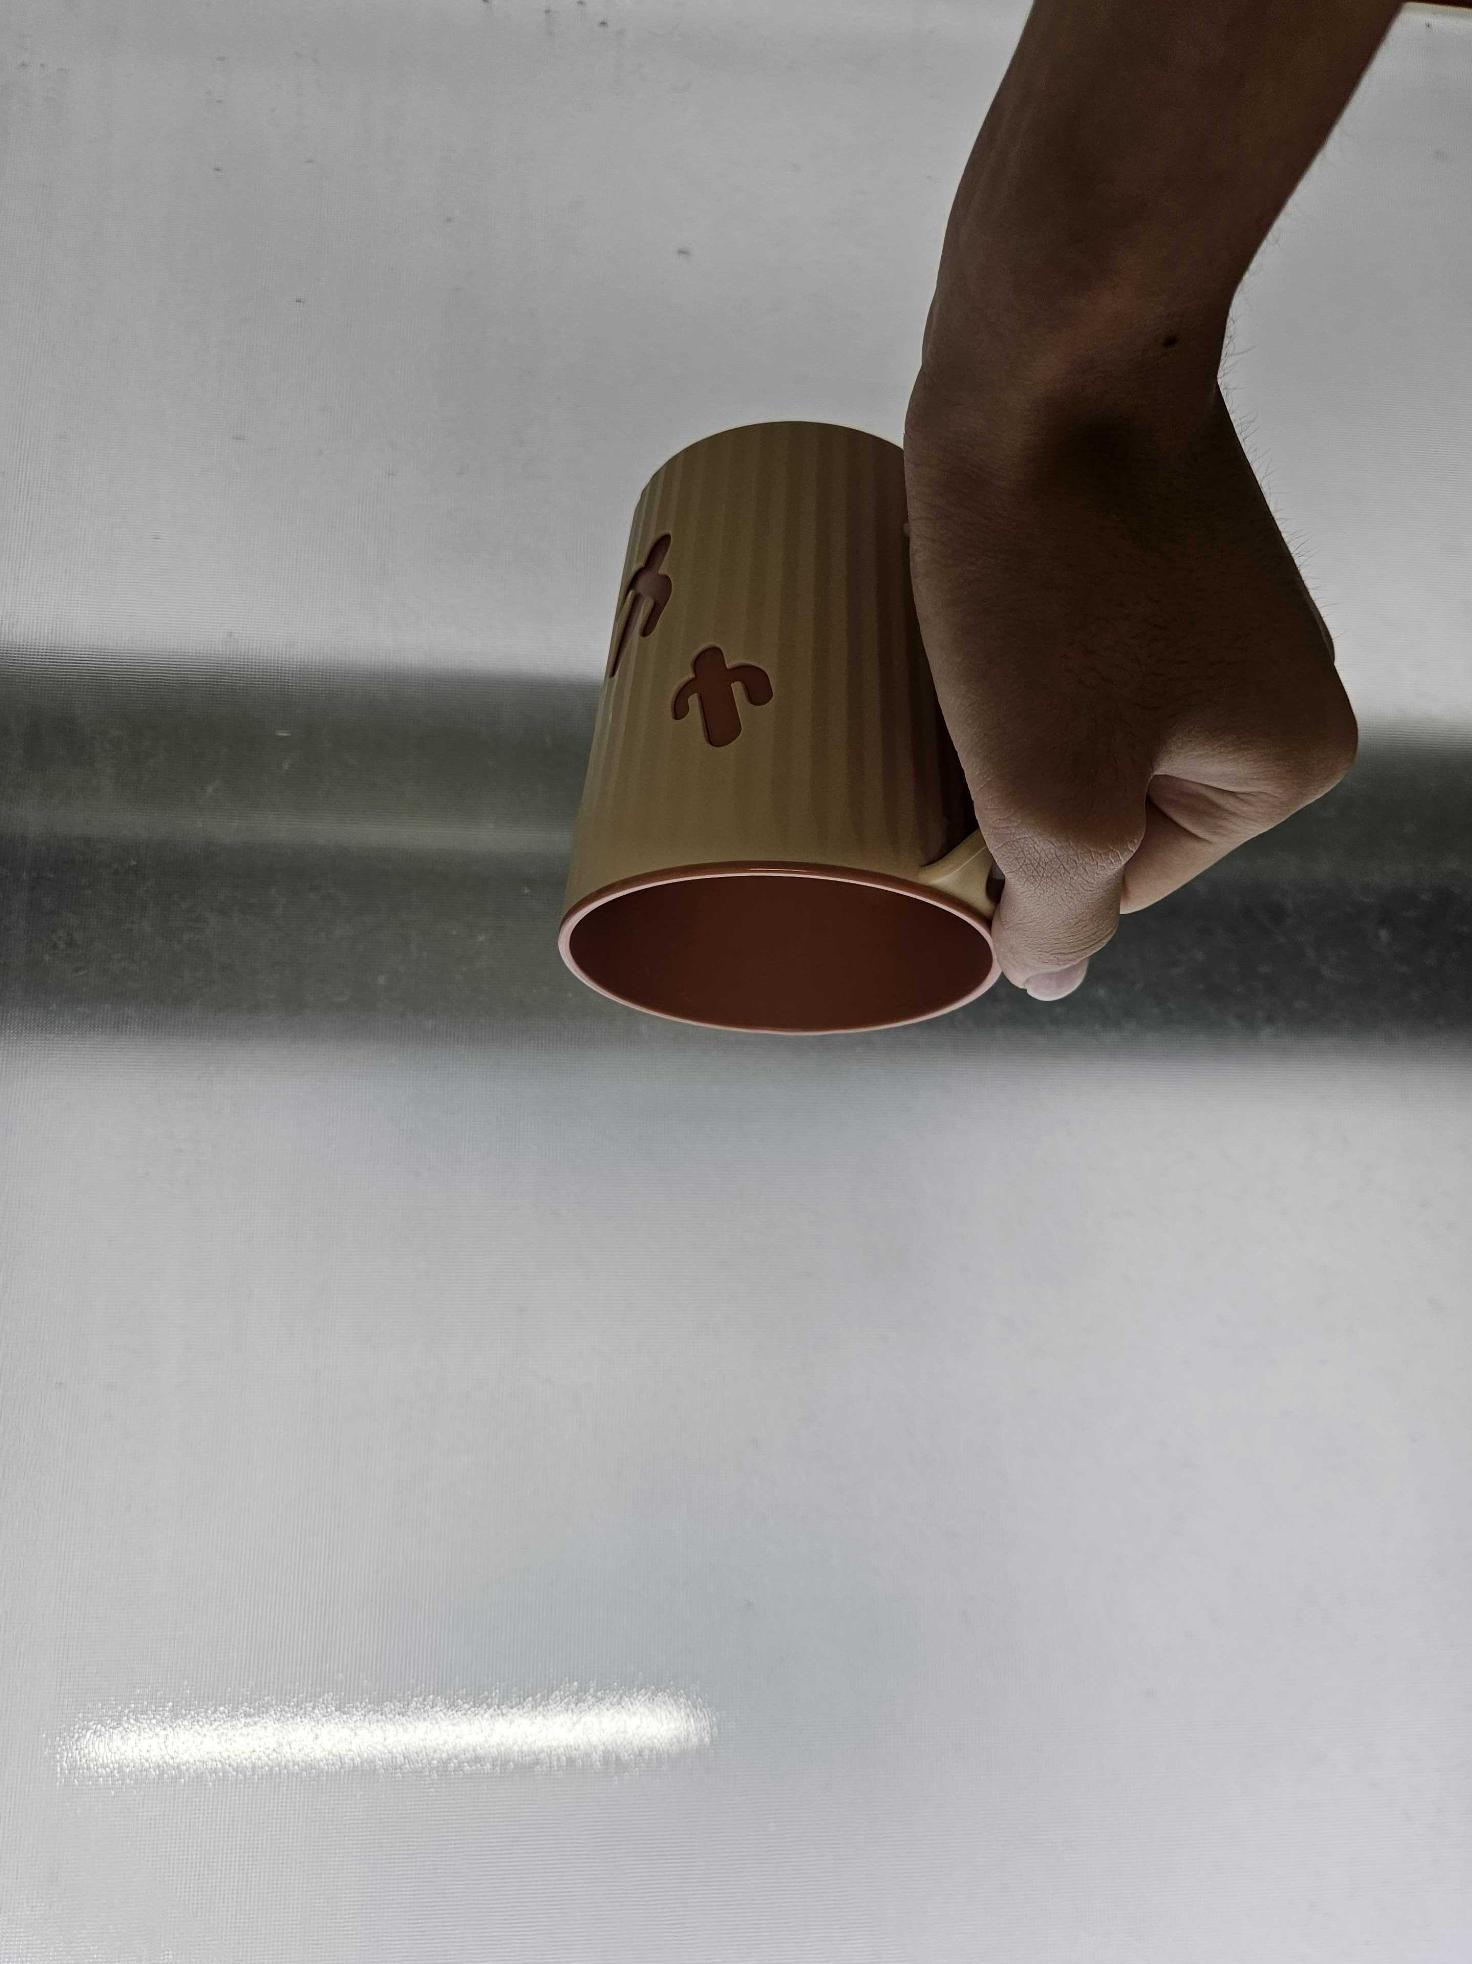cup: (552, 297, 1367, 1045)
